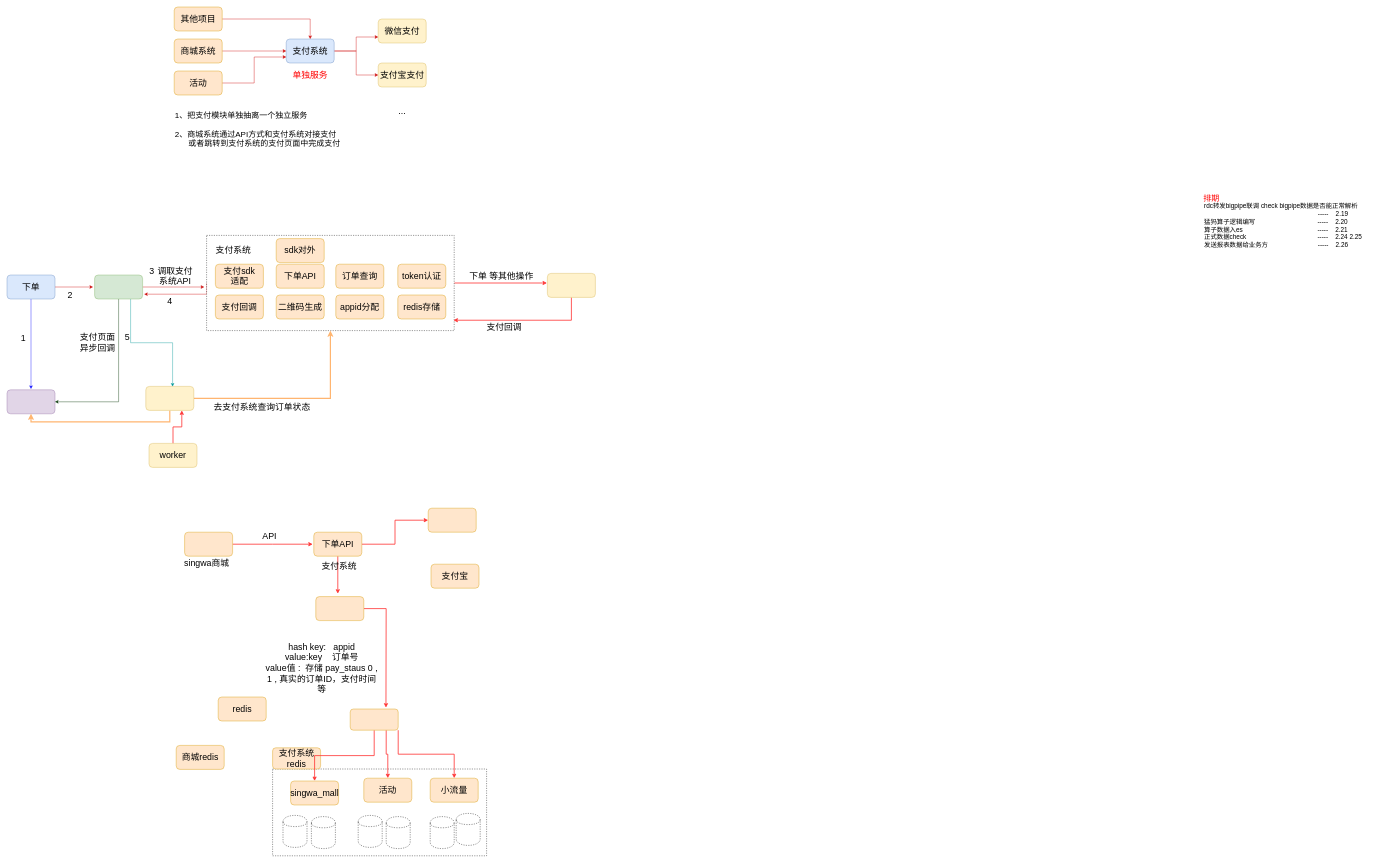
Image size: 1386x863. Some labels were removed from this diagram. Each missing label, with the centre of its shape:
"redis hash" belongs at pixel 339 608.
"业务方调用" belongs at pixel 208 544.
"基本订单信息入库" belongs at pixel 31 401.
"微信" belongs at pixel 452 520.
"支付系统redis-proxy" belongs at pixel 374 719.
"支付页面 发起支付" belongs at pixel 118 287.
"第三方支付" belongs at pixel 571 285.
"队列" belongs at pixel 169 398.
